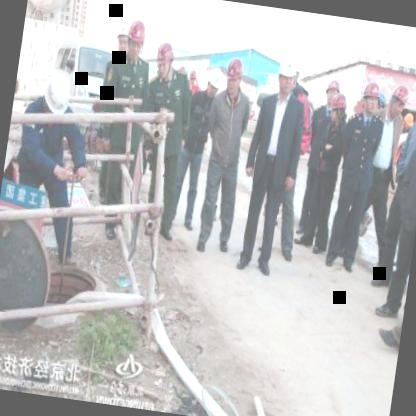helmet: (36, 66, 73, 130), (120, 14, 149, 61), (223, 53, 249, 98), (200, 63, 228, 104), (152, 36, 178, 80), (272, 55, 300, 93), (385, 79, 410, 118), (359, 78, 382, 120), (112, 20, 132, 62), (327, 91, 348, 126), (323, 77, 340, 107), (184, 64, 198, 90)
